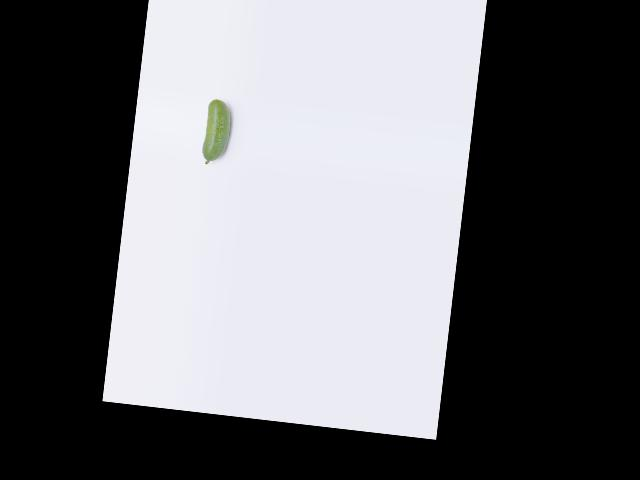cucumber: (201, 97, 233, 166)
